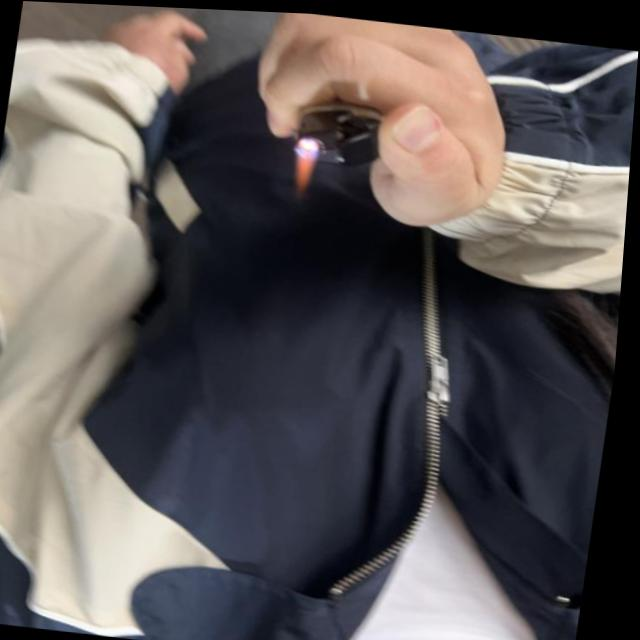Fire: (288, 132, 325, 190)
